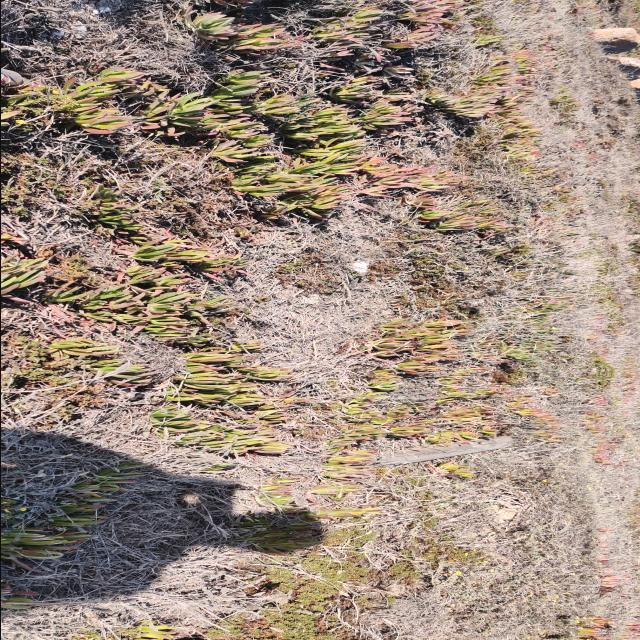Glass bottle: (1, 68, 51, 90), (347, 258, 368, 287)
